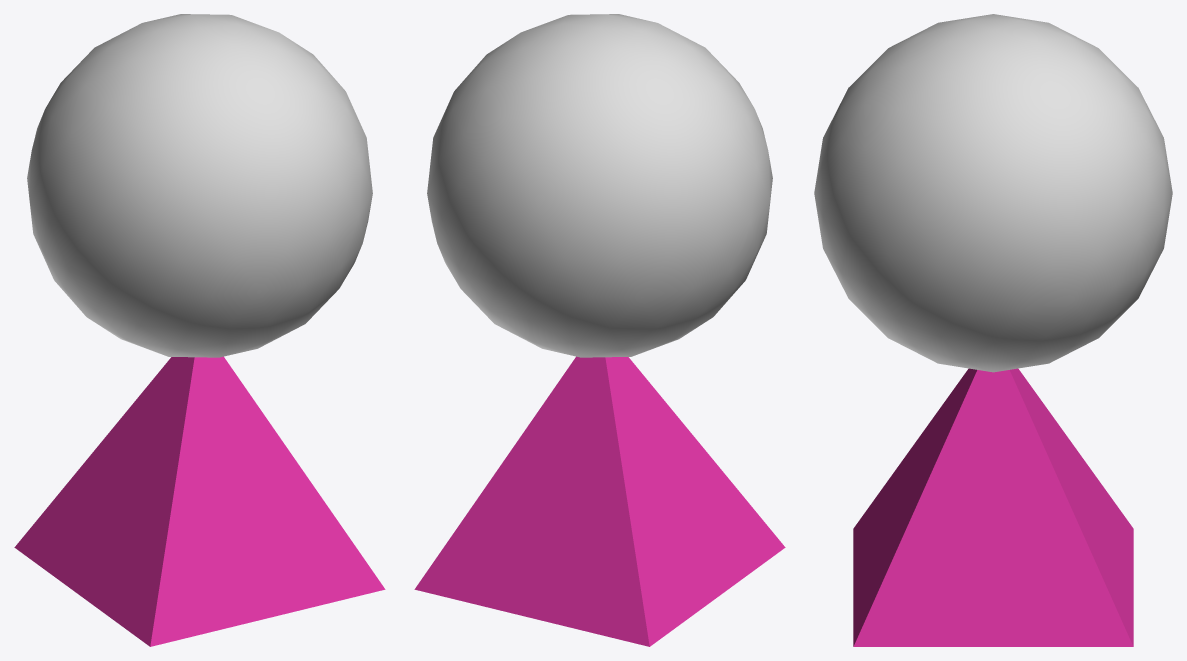
File: TakerSkill.fbx
The picture shows the model from 3 angles, left to right: view 1: azimuth 30°, elevation 25°; view 2: azimuth 150°, elevation 25°; view 3: azimuth 270°, elevation 25°; orthographic projection. The views are drawn at different scales.
Visible parts, largest first — view 1: Icosphere, Cube; view 2: Icosphere, Cube; view 3: Icosphere, Cube.
Boxes of the visible parts, x1,y1,x2,y2 form: Icosphere: (27,14,372,357); Cube: (14,356,385,646); Icosphere: (427,14,772,357); Cube: (414,356,785,646); Icosphere: (814,14,1172,372); Cube: (853,368,1133,646).
Bounding box in the file's own units: 128 × 219 × 128.
